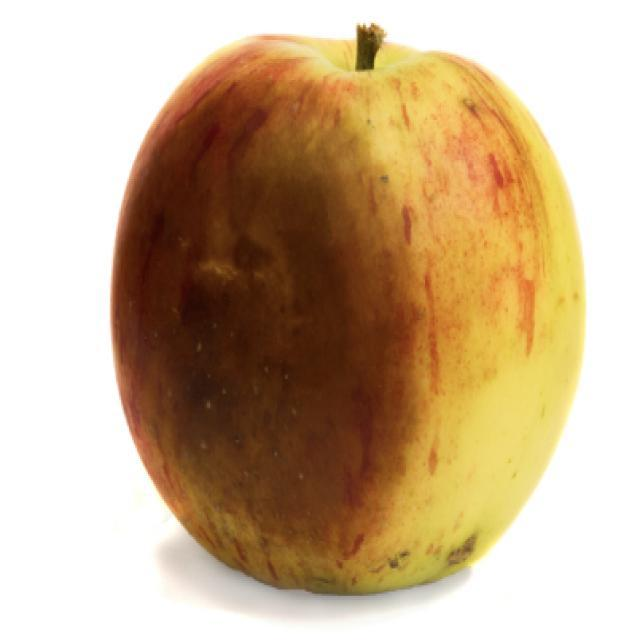Rotten: (124, 40, 598, 560)
